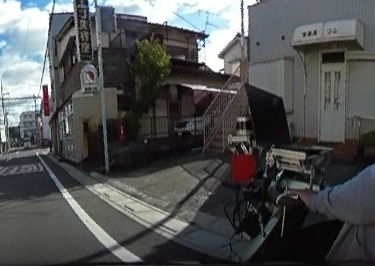person: (285, 26, 375, 266)
